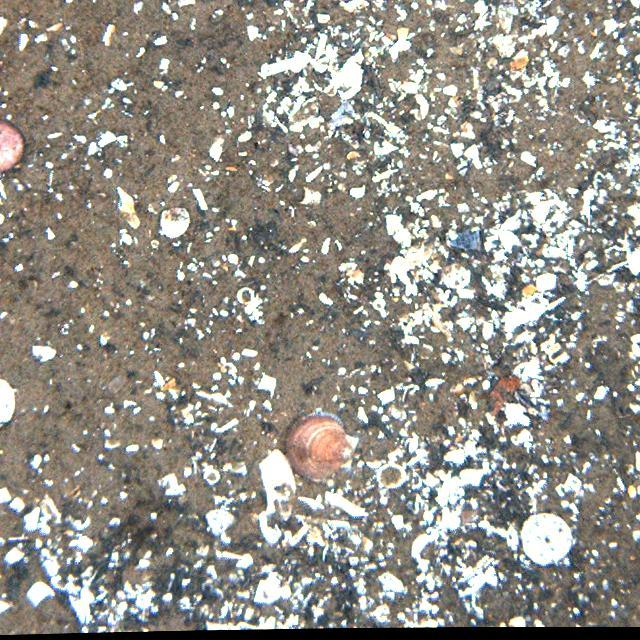scallop: (284, 411, 352, 482)
